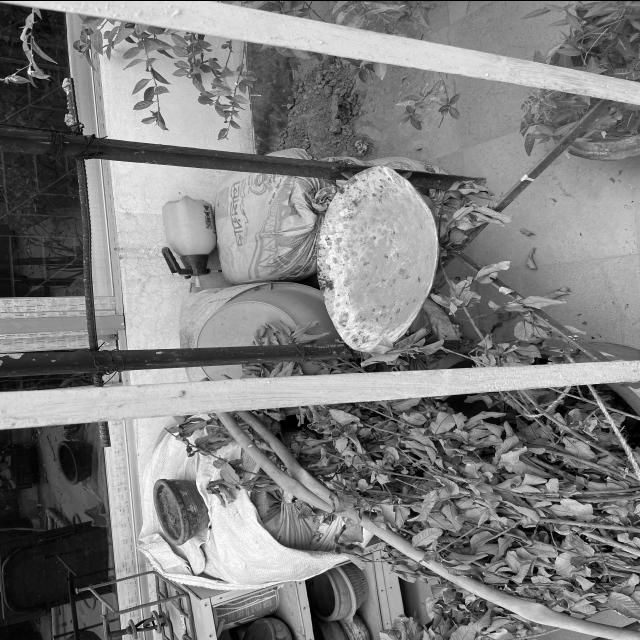Breeding Place: (307, 167, 451, 359), (516, 0, 640, 171), (149, 474, 213, 550), (305, 562, 370, 622), (241, 614, 299, 640)
